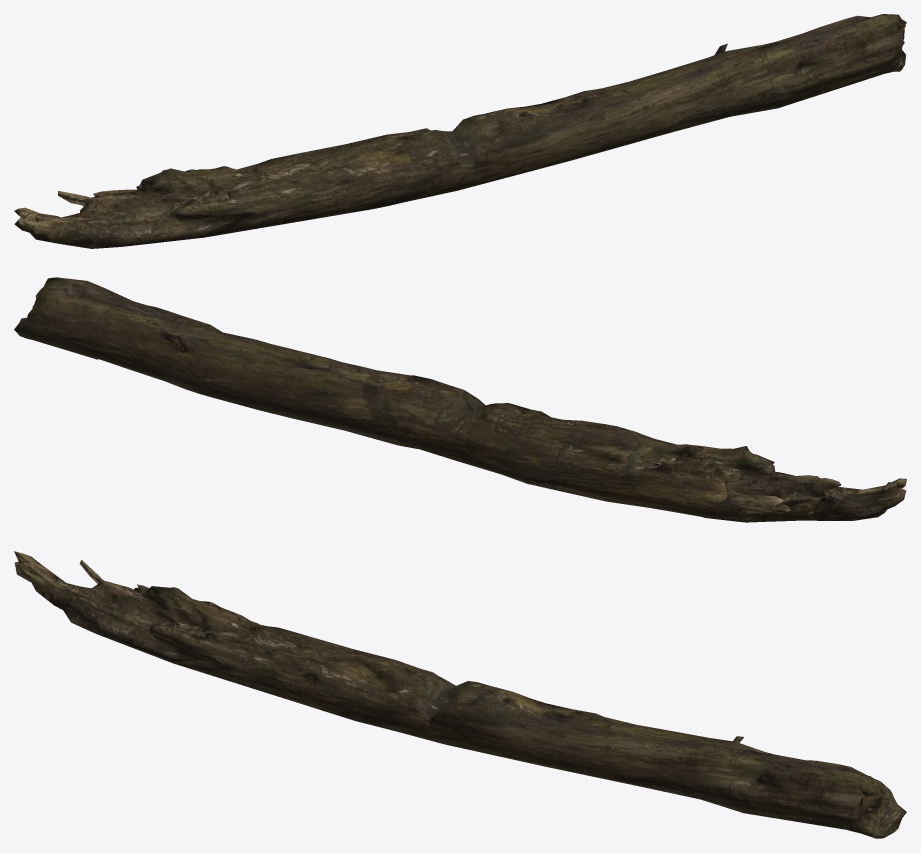
File: dead_tree_trunk.glb
3 renders of one model, top to bottom at view 1: azimuth 30°, elevation 25°; view 2: azimuth 150°, elevation 25°; view 3: azimuth 330°, elevation 25°, orthographic.
Visible parts, largest first — view 1: dead_tree_trunk; view 2: dead_tree_trunk; view 3: dead_tree_trunk.
Part boxes in pixels (box(x1,y1,x2,y2)): dead_tree_trunk: box(14, 14, 906, 248); dead_tree_trunk: box(14, 277, 906, 522); dead_tree_trunk: box(14, 551, 906, 838).
Size of the model in its own units: 3.05 by 0.2843 by 0.2747.
Materials: 1 (1 with a texture image).
